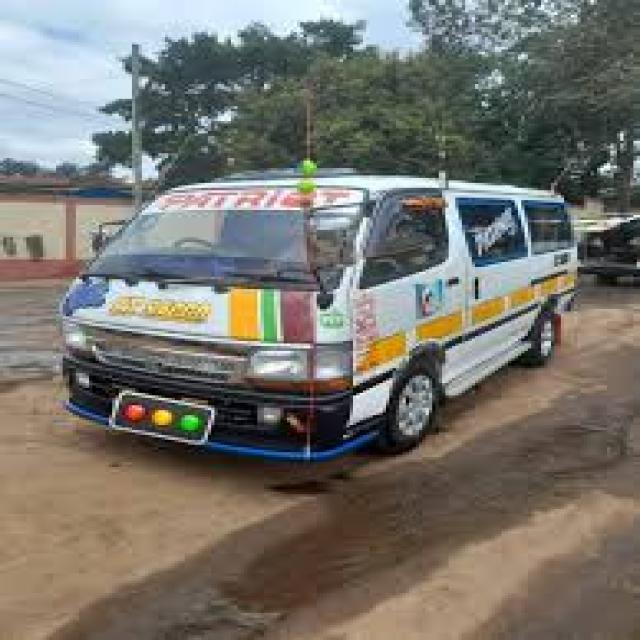matatu: (26, 82, 640, 534)
